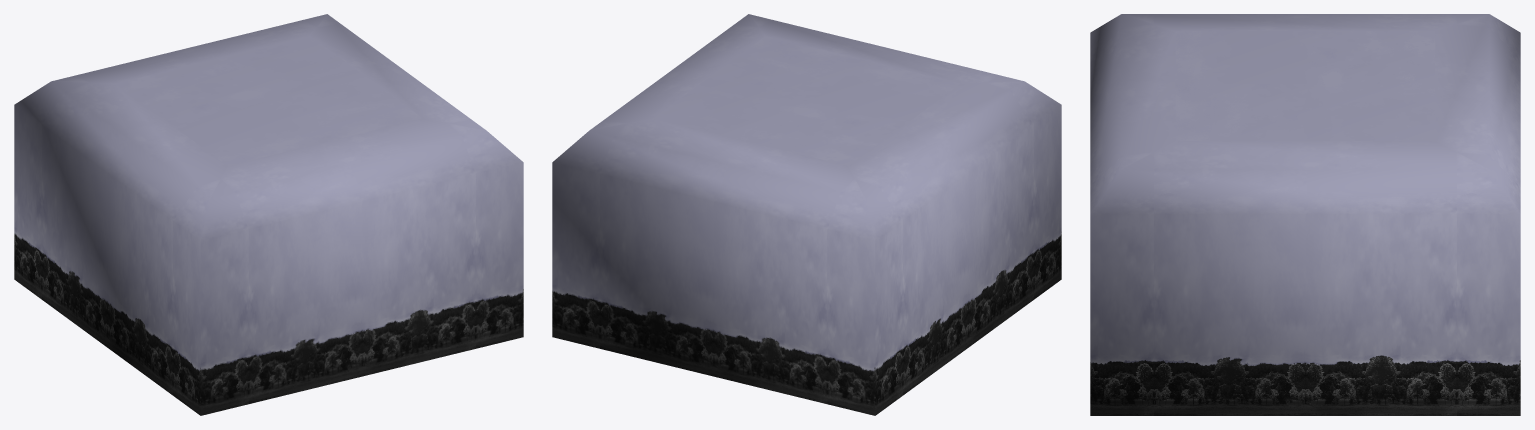
Rendered from SkyboxUndead.glb.
The picture shows the model from 3 angles, left to right: view 1: azimuth 30°, elevation 25°; view 2: azimuth 150°, elevation 25°; view 3: azimuth 270°, elevation 25°; orthographic projection. The views are drawn at different scales.
Parts seen in each view (by area): view 1: Cube; view 2: Cube; view 3: Cube.
Boxes of the visible parts, left/top/right/bottom form: Cube: left=14, top=14, right=523, bottom=415; Cube: left=552, top=14, right=1061, bottom=415; Cube: left=1090, top=14, right=1520, bottom=415.
Size of what is drawn, in the model's own units: 160 by 98.12 by 160.
1 material, 1 textured.
